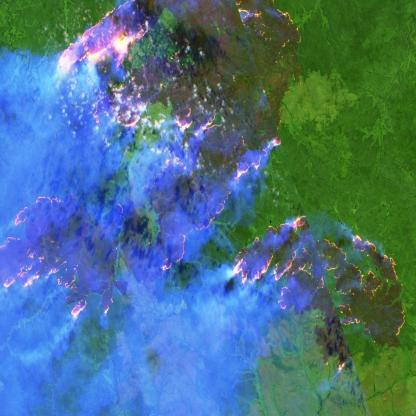fire: (0, 1, 409, 383)
